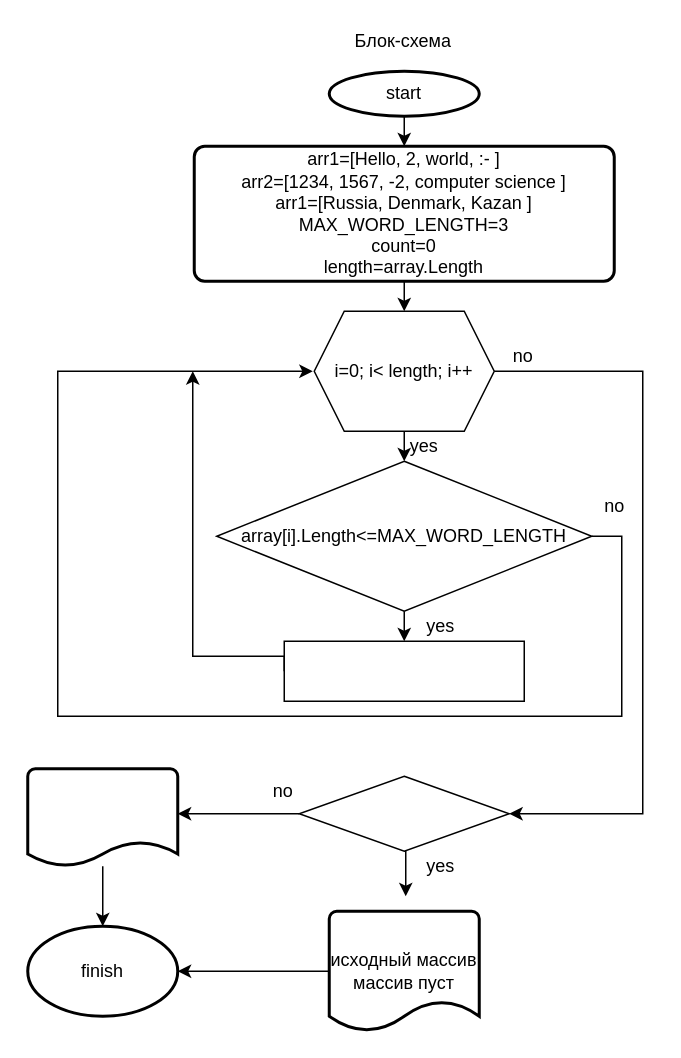
This 681x1058 diagram has some shape labels left out. Here are the shapes that lost their labels. From the top down, the centre of each, then its label:
At pixel 403 670: "result[count]=array[i] count++".
At pixel 102 816: "исходный массив новый массив".
At pixel 403 813: "array.Length==0".
